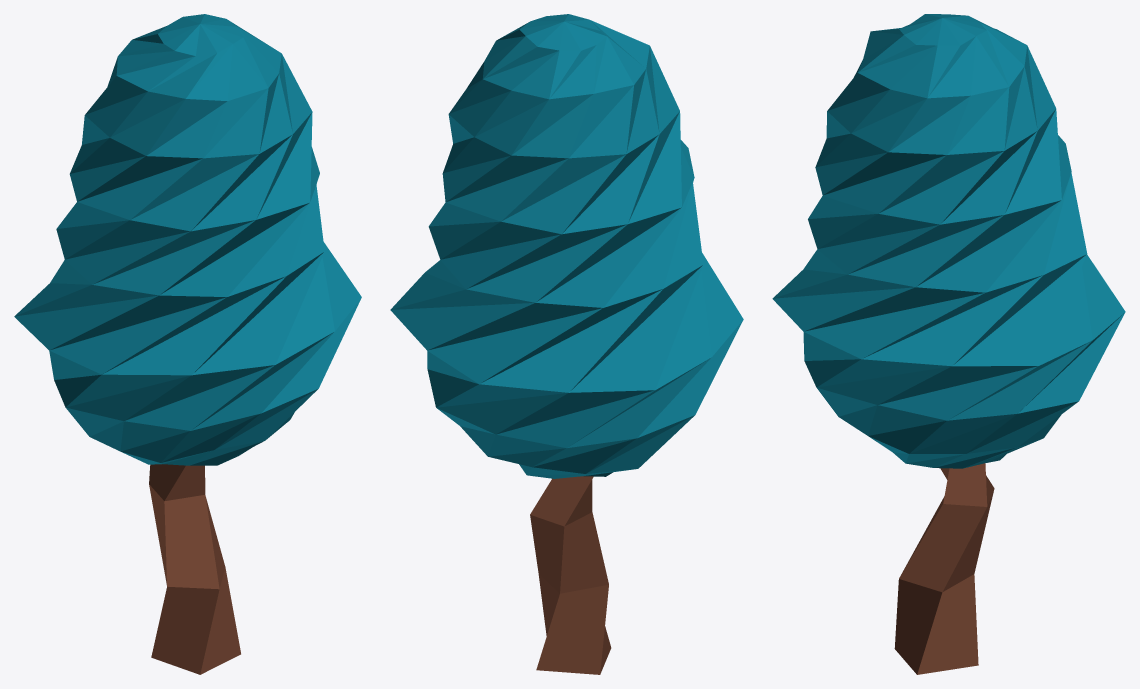
Rendered from Tree_14_summer_blue_vc.fbx.
3 renders of one model, left to right at view 1: azimuth 30°, elevation 25°; view 2: azimuth 150°, elevation 25°; view 3: azimuth 270°, elevation 25°, orthographic. The views are drawn at different scales.
Parts seen in each view (by area): view 1: Tree_14_summer_blue_vc; view 2: Tree_14_summer_blue_vc; view 3: Tree_14_summer_blue_vc.
Boxes of the visible parts, x1,y1,x2,y2 form: Tree_14_summer_blue_vc: (14,14,361,674); Tree_14_summer_blue_vc: (390,14,743,674); Tree_14_summer_blue_vc: (772,14,1125,674).
Size of the model in its own units: 104 by 223 by 111.
